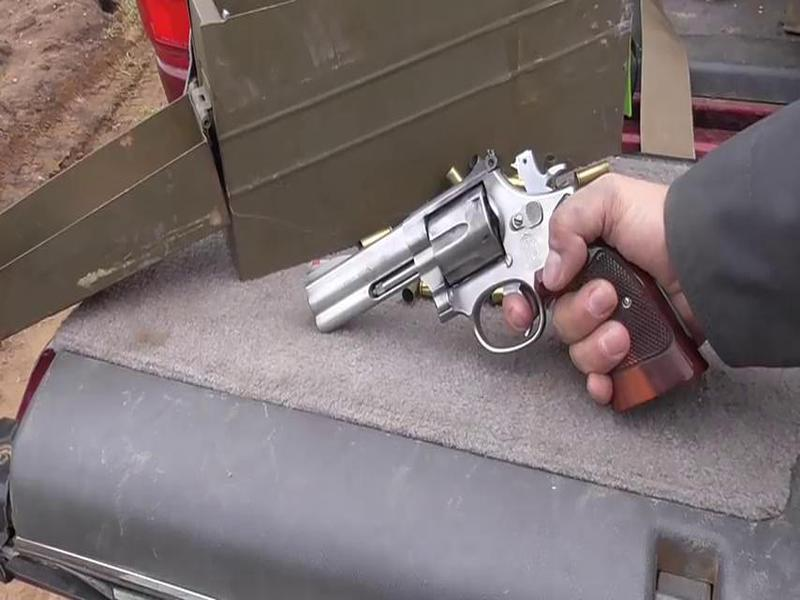Revolver: (314, 134, 693, 448)
